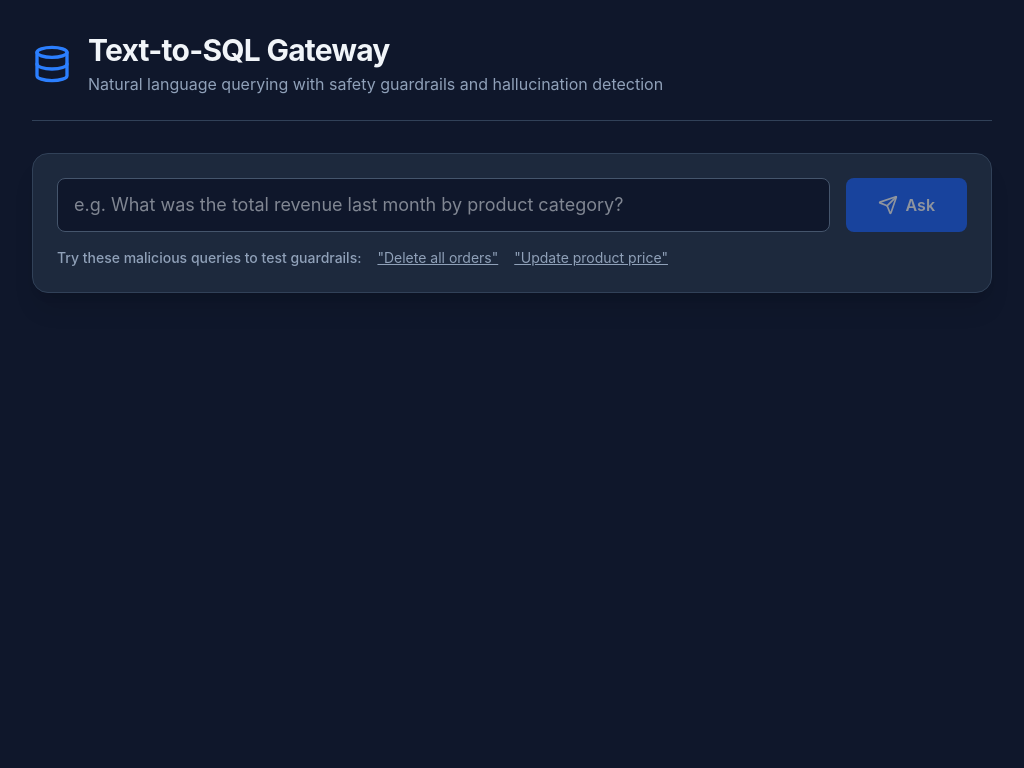
it: App › renders different confidence colors and warnings
The width and height of the screenshot is (1024, 768).
Replace the text in the field with placeholder "e.g. What was the total revenue" with "test" at coordinates (443, 205), box [57,178,830,232]
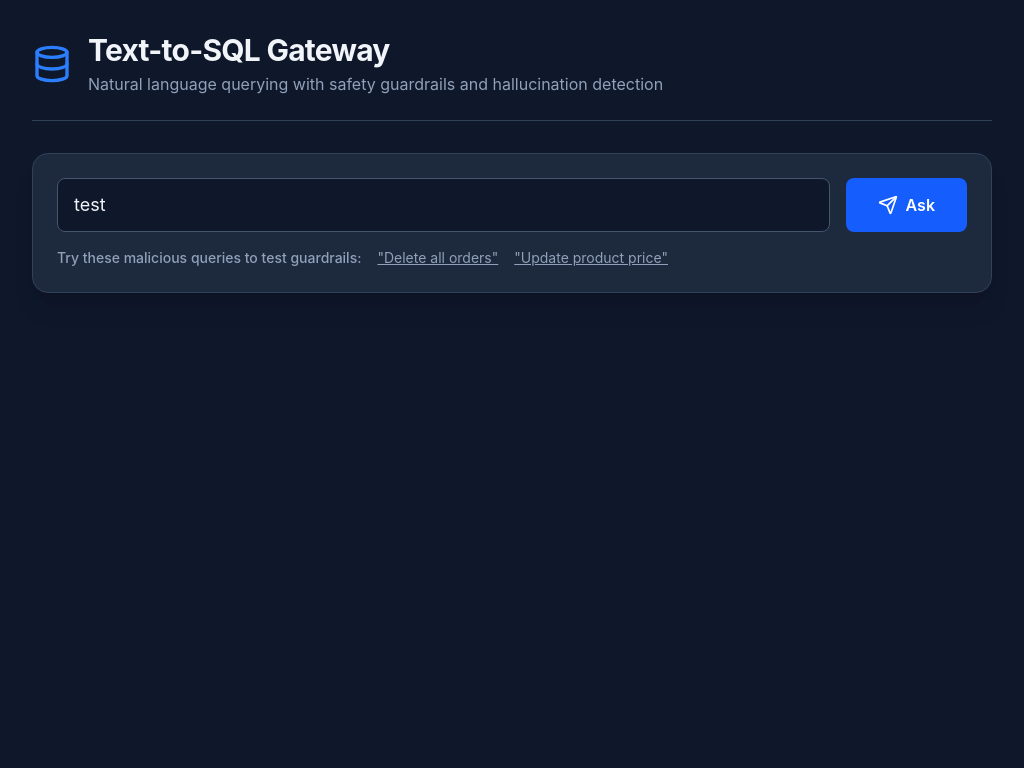
Click the button "Ask" at coordinates (906, 205), box [846,178,967,232]
(page scrolled)
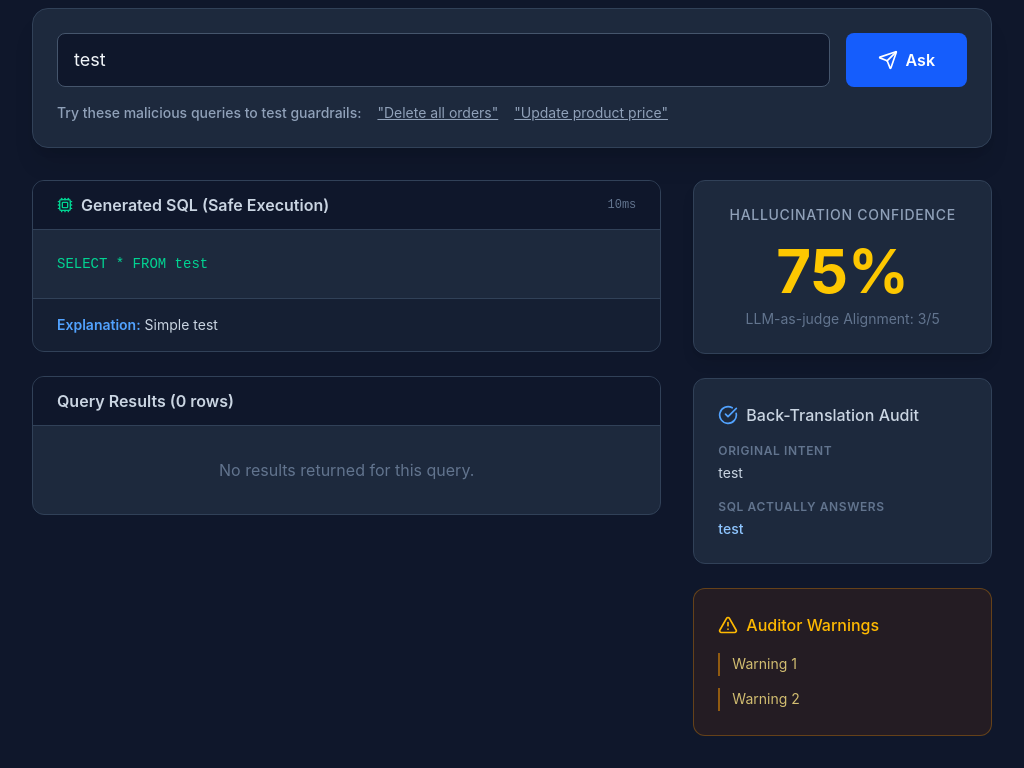
Check: the text "75%" is shown, box [776,235,909,307]
Check: the list item "Warning 1" is shown, box [718,653,967,676]
Check: the list item "Warning 2" is shown, box [718,688,967,711]
